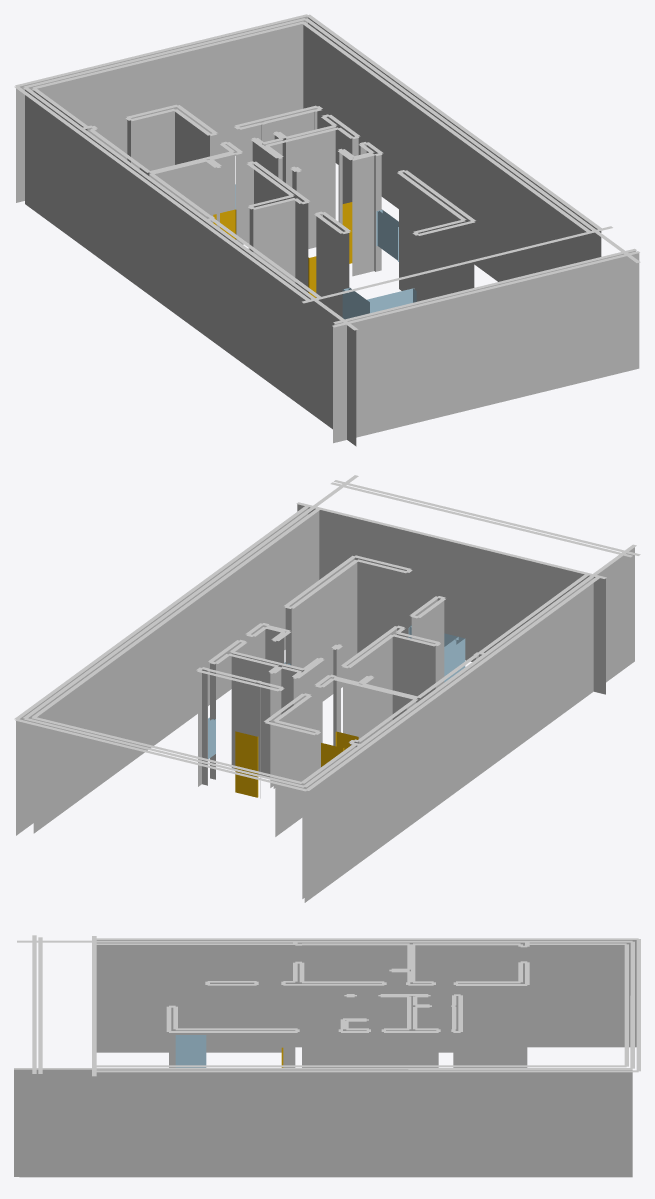
The picture shows the model from 3 angles, top to bottom: view 1: azimuth 30°, elevation 25°; view 2: azimuth 150°, elevation 25°; view 3: azimuth 270°, elevation 25°; orthographic projection. The views are drawn at different scales.
Visible parts, largest first — view 1: walls, roof, windows, doors; view 2: walls, roof, doors, windows; view 3: walls, roof, windows.
Part boxes in pixels (<box>): walls: <box>16,16,639,446</box>; roof: <box>14,14,640,330</box>; windows: <box>235,184,416,319</box>; doors: <box>213,202,352,297</box>; walls: <box>16,504,634,902</box>; roof: <box>14,475,640,791</box>; doors: <box>235,731,358,797</box>; windows: <box>208,625,465,758</box>; walls: <box>14,940,636,1177</box>; roof: <box>14,935,640,1076</box>; windows: <box>175,1035,206,1067</box>.
Bounding box in the file's own units: 11.17 × 4 × 20.98.
